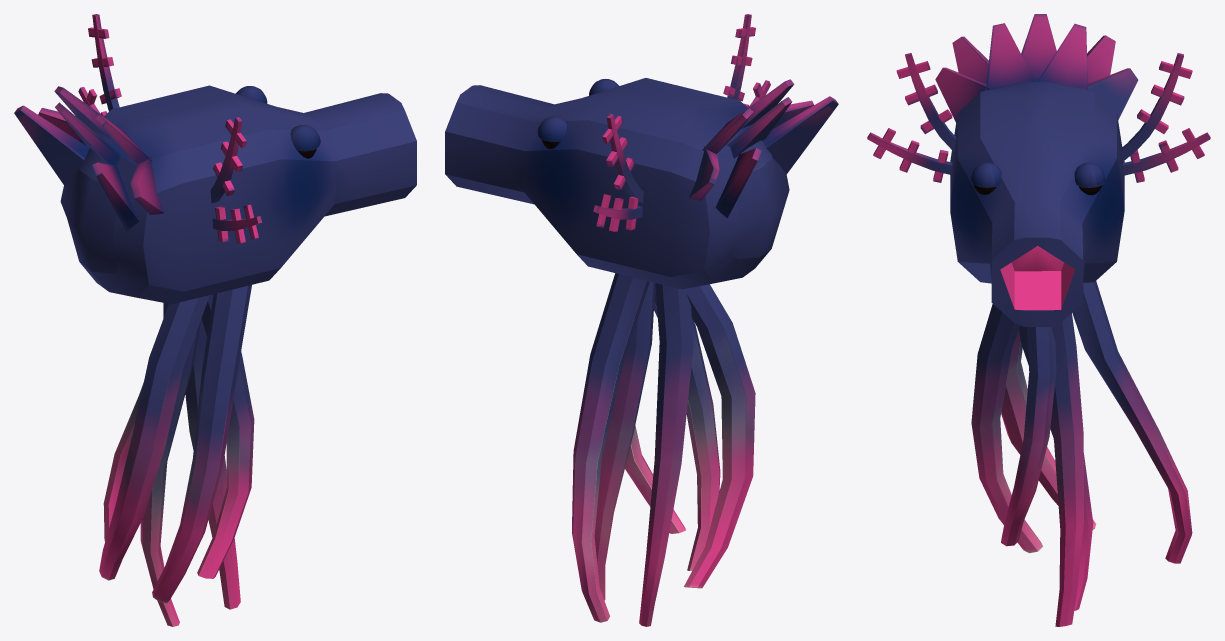
File: AxolotlTurret.fbx
3 renders of one model, left to right at view 1: azimuth 30°, elevation 25°; view 2: azimuth 150°, elevation 25°; view 3: azimuth 270°, elevation 25°, orthographic. The views are drawn at different scales.
Visible parts, largest first — view 1: polySurface6, pCylinder5, pCylinder1, pCylinder2, pCylinder3, pCylinder6, pCube7, pCube9 (×2), pCylinder4, pCube8, pCube2, pCube6 (+3 smaller); view 2: polySurface6, pCylinder4, pCylinder1, pCylinder3, pCylinder6, pCylinder5, pCube8, pCube9 (×2), pCylinder2, pCube7, pCube6, pCube3 (+3 smaller); view 3: polySurface6, pCylinder6, pCylinder4, pCylinder5, pCylinder2, pCube9 (×3), pCylinder1, pCube4, pCube5, pCube6, pCube2, pCylinder3 (+6 smaller).
Boxes of the visible parts, <box> form: polySurface6: <box>60,85,416,304</box>; pCylinder5: <box>152,285,251,602</box>; pCylinder1: <box>99,295,209,580</box>; pCylinder2: <box>197,294,254,578</box>; pCylinder3: <box>140,303,201,626</box>; pCylinder6: <box>185,319,240,609</box>; pCube7: <box>14,105,89,186</box>; pCube9 (×2): <box>92,14,242,203</box>; pCylinder4: <box>103,303,168,541</box>; pCube8: <box>92,162,139,231</box>; pCube2: <box>130,156,164,214</box>; pCube6: <box>55,102,121,165</box>; polySurface6: <box>445,78,789,289</box>; pCylinder4: <box>572,273,649,622</box>; pCylinder1: <box>684,284,755,588</box>; pCylinder3: <box>639,283,693,626</box>; pCylinder6: <box>594,281,654,600</box>; pCylinder5: <box>654,293,720,570</box>; pCube8: <box>763,96,838,174</box>; pCube9 (×2): <box>606,14,751,202</box>; pCylinder2: <box>625,283,685,533</box>; pCube7: <box>715,148,761,217</box>; pCube6: <box>727,97,792,158</box>; pCube3: <box>689,146,719,200</box>; polySurface6: <box>950,79,1124,326</box>; pCylinder6: <box>1051,313,1083,626</box>; pCylinder4: <box>1072,281,1192,563</box>; pCylinder5: <box>971,304,1043,553</box>; pCylinder2: <box>1001,326,1056,546</box>; pCube9 (×3): <box>867,53,1183,174</box>; pCylinder1: <box>1001,328,1096,529</box>; pCube4: <box>1037,23,1087,89</box>; pCube5: <box>985,23,1035,89</box>; pCube6: <box>1021,14,1056,79</box>; pCube2: <box>935,67,991,122</box>; pCylinder3: <box>1019,325,1093,610</box>.
Bounding box in the file's own units: 2.37 × 3.79 × 2.16.
1 material, 1 textured.
